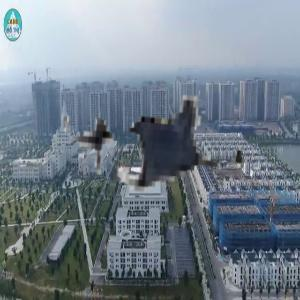drone: (61, 10, 294, 243)
